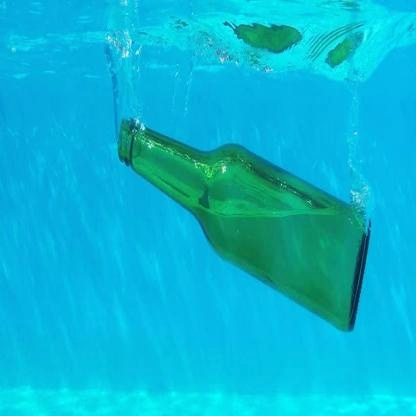gbottle: (116, 116, 372, 338)
